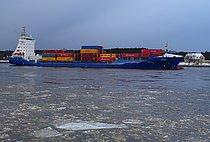Ship: (7, 25, 187, 73)
